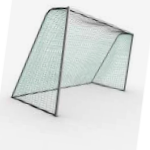goals: (9, 5, 135, 119)
